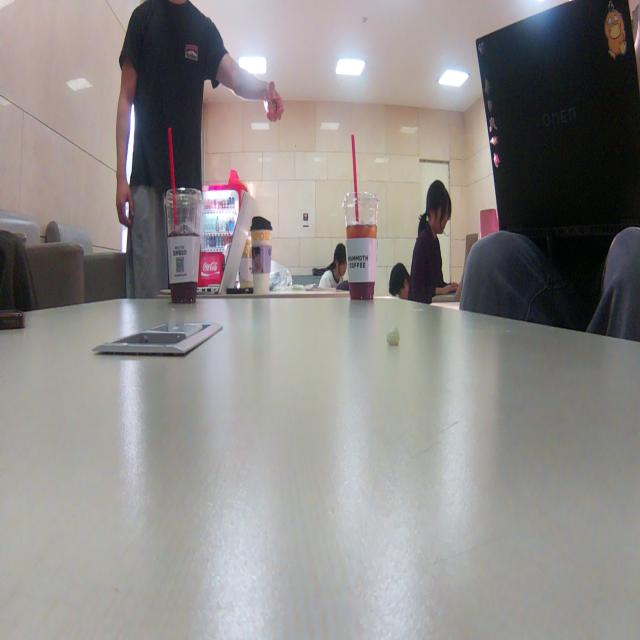target: (267, 80, 278, 112)
